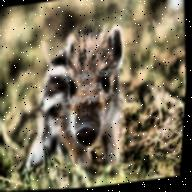boar: (10, 12, 191, 184)
